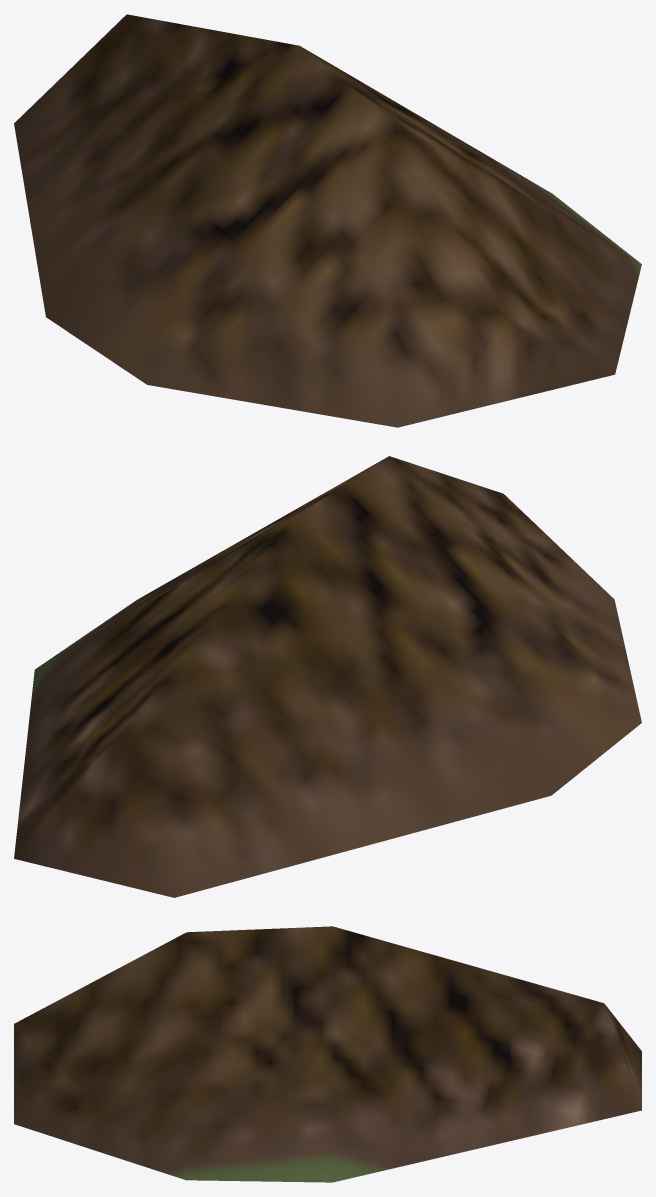
Rendered from arden_forest_pine_tree_cone_01_foliage.fbx.
The picture shows the model from 3 angles, top to bottom: view 1: azimuth 30°, elevation 25°; view 2: azimuth 150°, elevation 25°; view 3: azimuth 270°, elevation 25°; orthographic projection. The views are drawn at different scales.
Parts seen in each view (by area): view 1: arden_forest_pine_tree_cone_01_foliage; view 2: arden_forest_pine_tree_cone_01_foliage; view 3: arden_forest_pine_tree_cone_01_foliage.
Part boxes in pixels (left/top/right/bottom): arden_forest_pine_tree_cone_01_foliage: left=14, top=14, right=641, bottom=427; arden_forest_pine_tree_cone_01_foliage: left=14, top=456, right=641, bottom=897; arden_forest_pine_tree_cone_01_foliage: left=14, top=926, right=641, bottom=1182.
Size of the model in its own units: 17.8 by 7.03 by 24.82.
